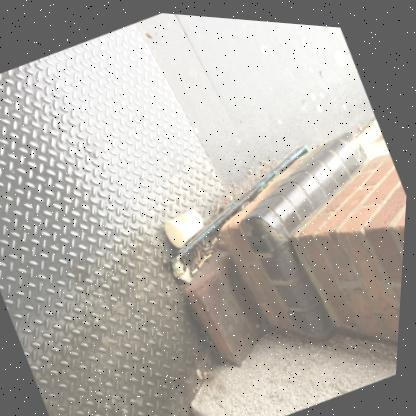Paper: (167, 206, 205, 245)
Waste: (175, 257, 196, 279), (213, 233, 220, 242), (200, 257, 206, 266), (205, 242, 215, 247), (206, 233, 210, 243), (194, 265, 200, 271), (208, 246, 215, 251), (199, 240, 204, 245), (200, 247, 202, 258), (204, 235, 207, 242), (188, 264, 191, 271), (354, 127, 359, 131), (202, 236, 207, 239), (185, 255, 188, 260), (190, 266, 192, 273), (207, 369, 211, 372)
